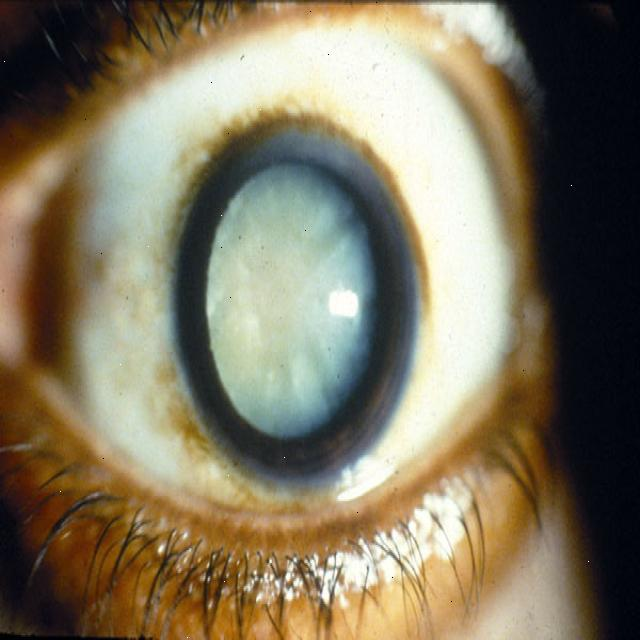Cataract: (171, 112, 420, 496)
